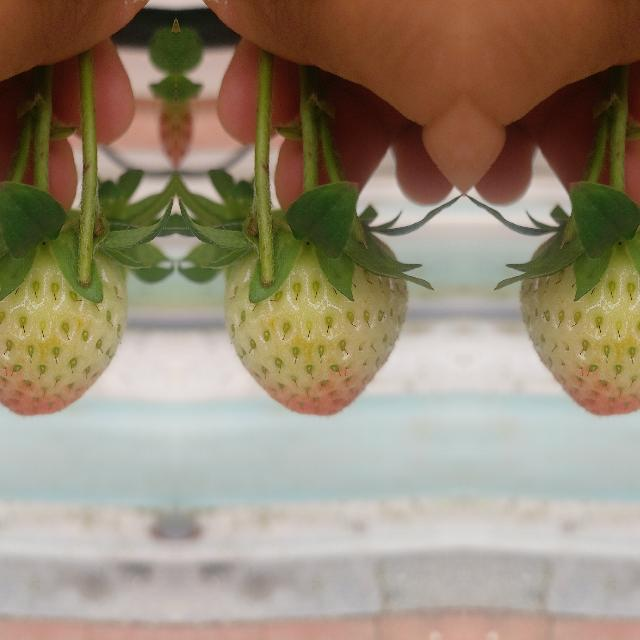Health_50: (224, 233, 406, 415), (0, 233, 126, 415), (519, 233, 640, 415)
